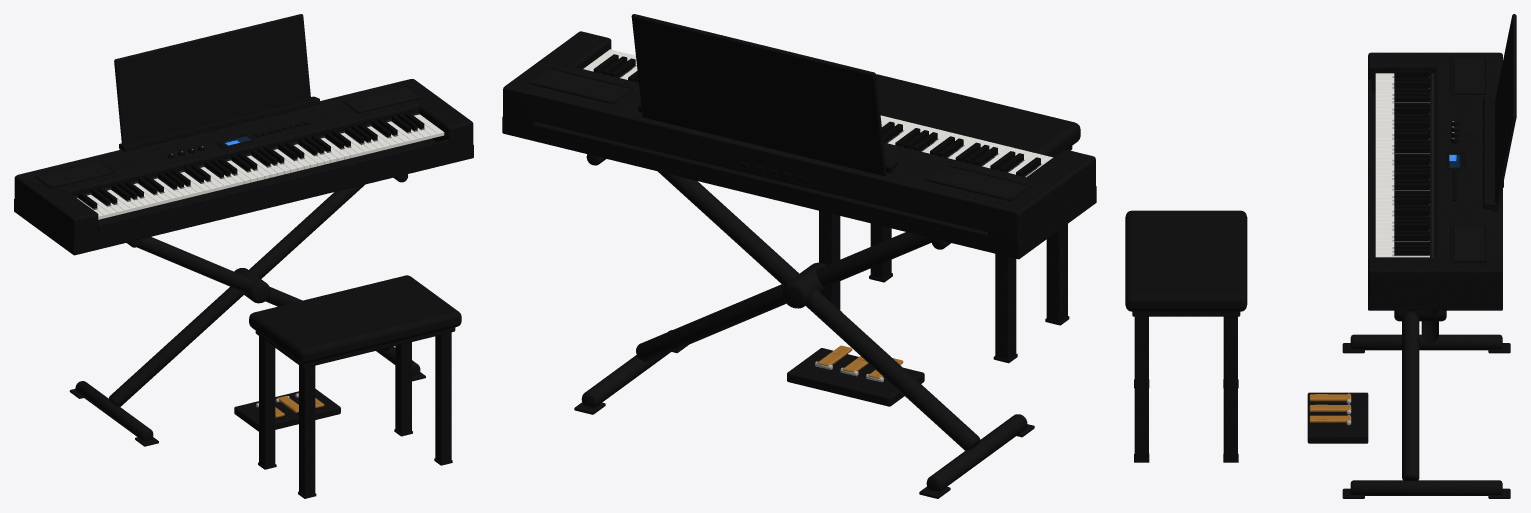
The model's file is StagePiano88.glb.
The picture shows the model from 3 angles, left to right: view 1: azimuth 30°, elevation 25°; view 2: azimuth 150°, elevation 25°; view 3: azimuth 270°, elevation 25°; orthographic projection. The views are drawn at different scales.
Parts seen in each view (by area): view 1: MusicRest_Board, Bench_Cushion, Case_Base, Controls_Panel, Stand_XBrace_Left, Case_FrontRail, Case_Cheek_Left, Stand_XBrace_Right, Bench_Leg_Left_Front, Bench_Leg_Right_Front, Case_Cheek_Right, Bench_Leg_Left_Rear (+9 smaller); view 2: MusicRest_Board, Controls_Panel, Case_Base, Bench_Cushion, Stand_XBrace_Left, Case_Cheek_Left, Stand_XBrace_Right, Case_Cheek_Right, Pedals_Base, Bench_Leg_Left_Rear, Stand_FootRail_Left, Bench_Leg_Left_Front (+8 smaller); view 3: Bench_Cushion, Controls_Panel, Case_Cheek_Right, Case_Base, Stand_XBrace_Right, MusicRest_Board, Stand_FootRail_Right, Pedals_Base, Bench_Leg_Right_Front, Bench_Leg_Right_Rear, Stand_FootRail_Left, Case_Cheek_Left (+8 smaller).
Boxes of the visible parts, <box> form: MusicRest_Board: <box>114,14,310,151</box>; Bench_Cushion: <box>249,275,461,363</box>; Case_Base: <box>14,129,473,255</box>; Controls_Panel: <box>17,79,436,206</box>; Stand_XBrace_Left: <box>109,184,364,406</box>; Case_FrontRail: <box>98,139,448,236</box>; Case_Cheek_Left: <box>14,175,98,248</box>; Stand_XBrace_Right: <box>137,237,391,351</box>; Bench_Leg_Left_Front: <box>299,365,315,496</box>; Bench_Leg_Right_Front: <box>435,332,451,462</box>; Case_Cheek_Right: <box>392,79,473,157</box>; Bench_Leg_Left_Rear: <box>259,336,275,466</box>; MusicRest_Board: <box>631,14,886,176</box>; Controls_Panel: <box>505,64,1050,236</box>; Case_Base: <box>502,73,1096,259</box>; Bench_Cushion: <box>876,74,1080,157</box>; Stand_XBrace_Left: <box>658,171,980,450</box>; Case_Cheek_Left: <box>987,149,1095,255</box>; Stand_XBrace_Right: <box>636,232,931,362</box>; Case_Cheek_Right: <box>503,31,611,137</box>; Pedals_Base: <box>787,348,924,406</box>; Bench_Leg_Left_Rear: <box>995,254,1016,359</box>; Stand_FootRail_Left: <box>926,414,1027,491</box>; Bench_Leg_Left_Front: <box>1046,224,1067,321</box>; Bench_Cushion: <box>1125,210,1247,311</box>; Controls_Panel: <box>1436,53,1502,270</box>; Case_Cheek_Right: <box>1368,257,1502,308</box>; Case_Base: <box>1368,91,1502,310</box>; Stand_XBrace_Right: <box>1402,312,1419,480</box>; MusicRest_Board: <box>1494,14,1516,211</box>; Stand_FootRail_Right: <box>1350,480,1502,495</box>; Pedals_Base: <box>1307,392,1368,443</box>; Bench_Leg_Right_Front: <box>1134,316,1148,459</box>; Bench_Leg_Right_Rear: <box>1223,316,1237,459</box>; Stand_FootRail_Left: <box>1350,334,1502,350</box>; Case_Cheek_Left: <box>1368,52,1501,91</box>.
Size of the model in its own units: 1.38 by 1.05 by 1.04.
98 materials, 98 textured.
